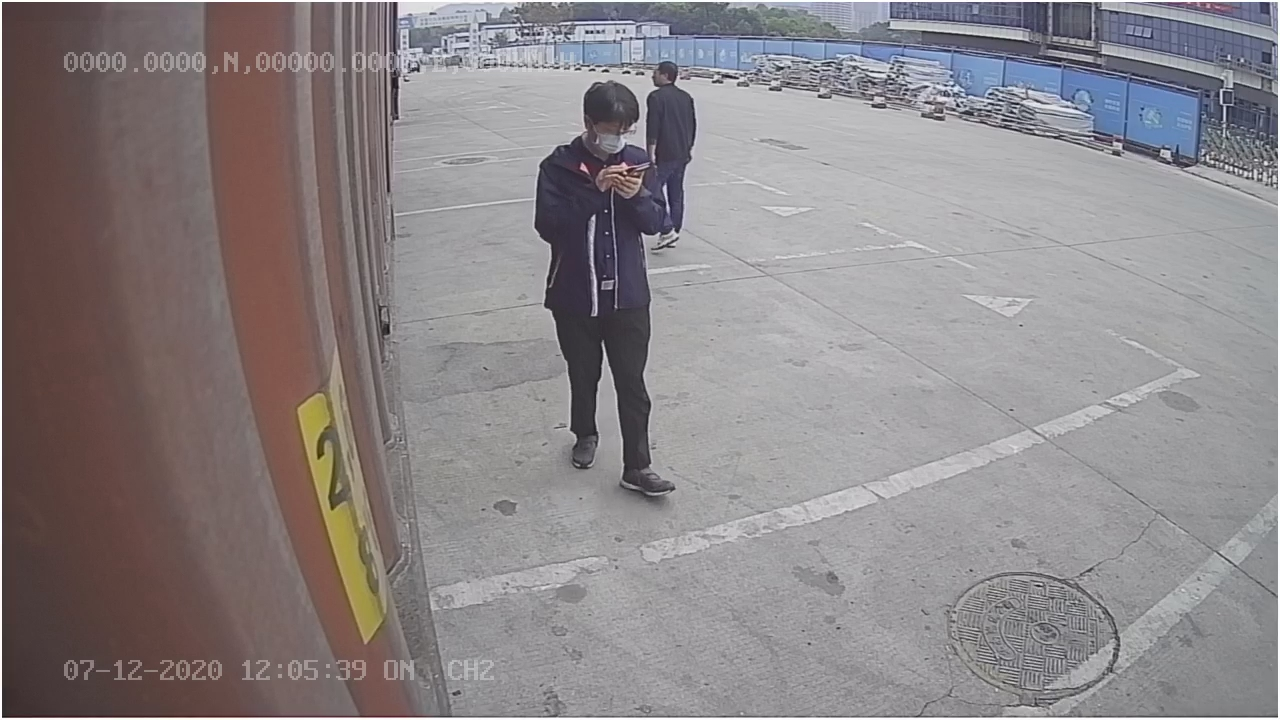person: (535, 83, 674, 503)
